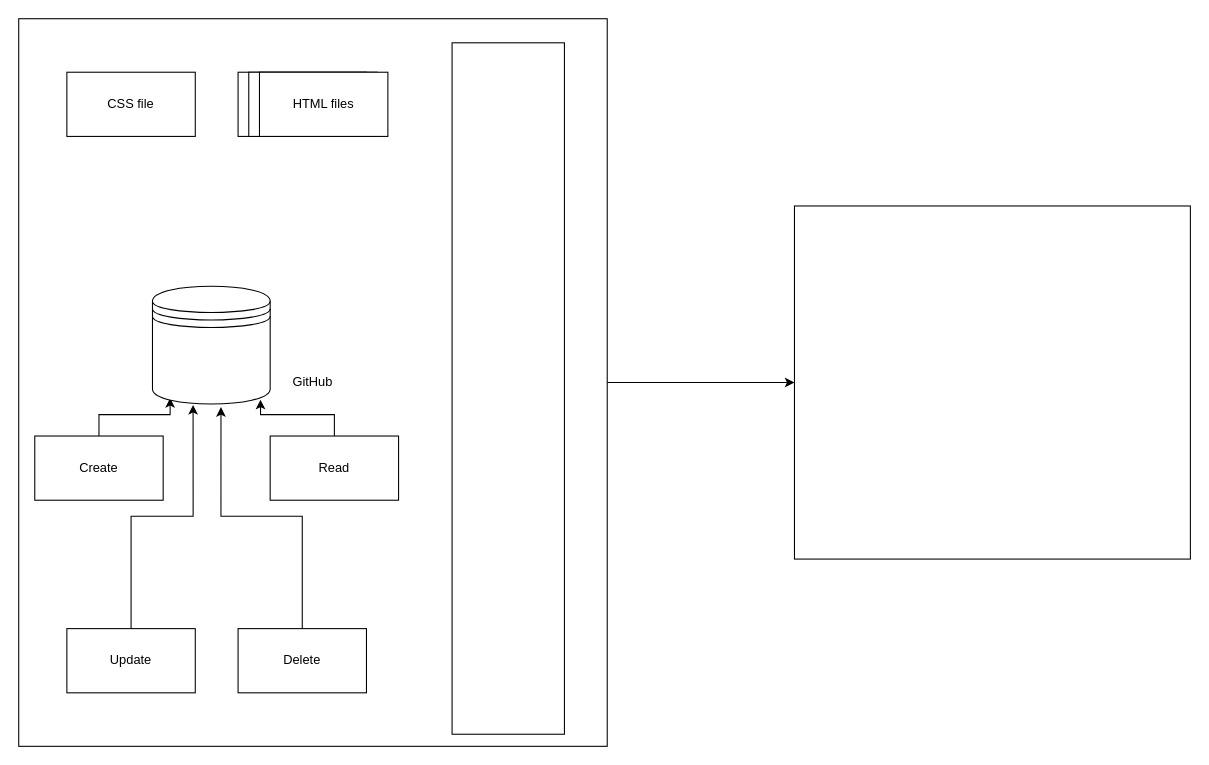
Some shapes in this 1209 by 765 pixel diagram are drawn without their labels. Here are the shapes that lost their labels. From the top down, the box of each, then its label:
(451, 42, 564, 734): FLASH APPLICATION
(793, 205, 1190, 559): Vercel
